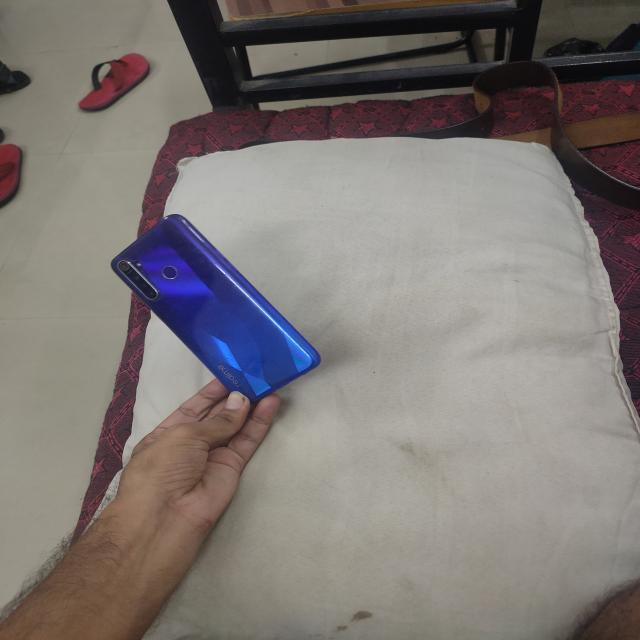Phone: (108, 210, 326, 406)
